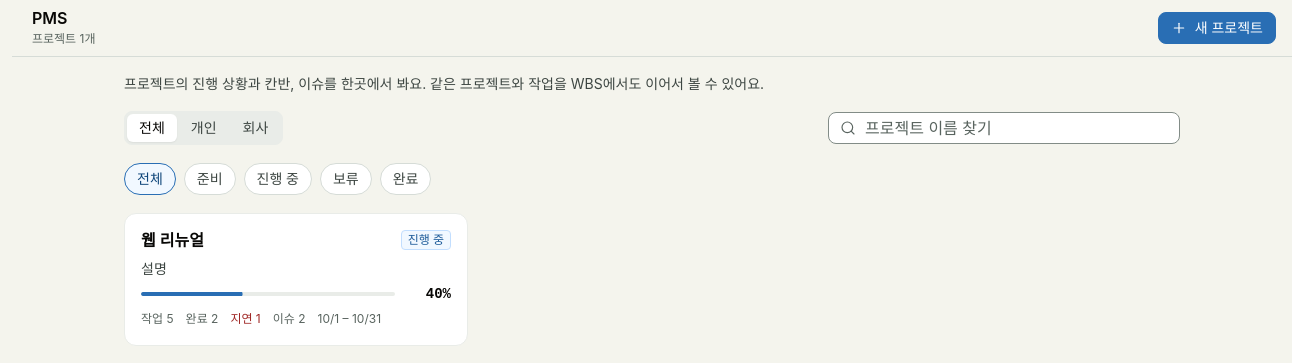
프로젝트 목록 화면 › 프로젝트 카드에 진행률·지연·이슈를 보이고 눌러 들어간다
Expected: the text "40%" is shown, top-left (426, 286), bottom-right (451, 302)
Expected: the text "지연 1" is shown, top-left (230, 309), bottom-right (261, 329)
Click the link "웹 리뉴얼 진행 중 설명 40% 작업 5 완료 2 지연 1 이슈 2 10/1 – 10/31" at (172, 240), box top-left (124, 213), bottom-right (468, 346)
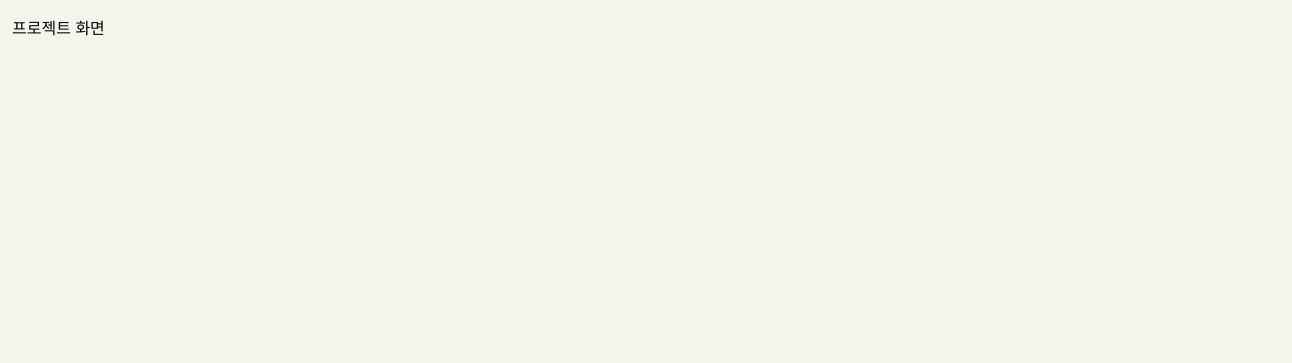
Expected: the text "프로젝트 화면" is shown, top-left (12, 18), bottom-right (105, 38)
